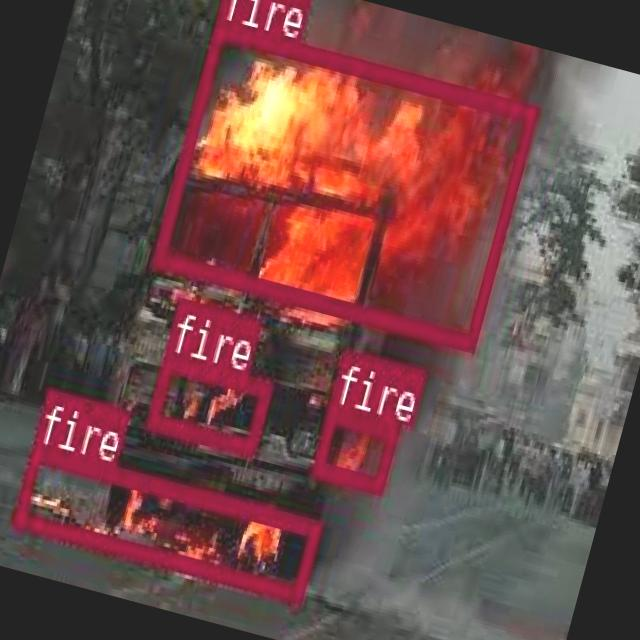fire: (150, 18, 536, 350), (11, 442, 320, 599), (144, 352, 272, 452), (310, 402, 399, 490)
